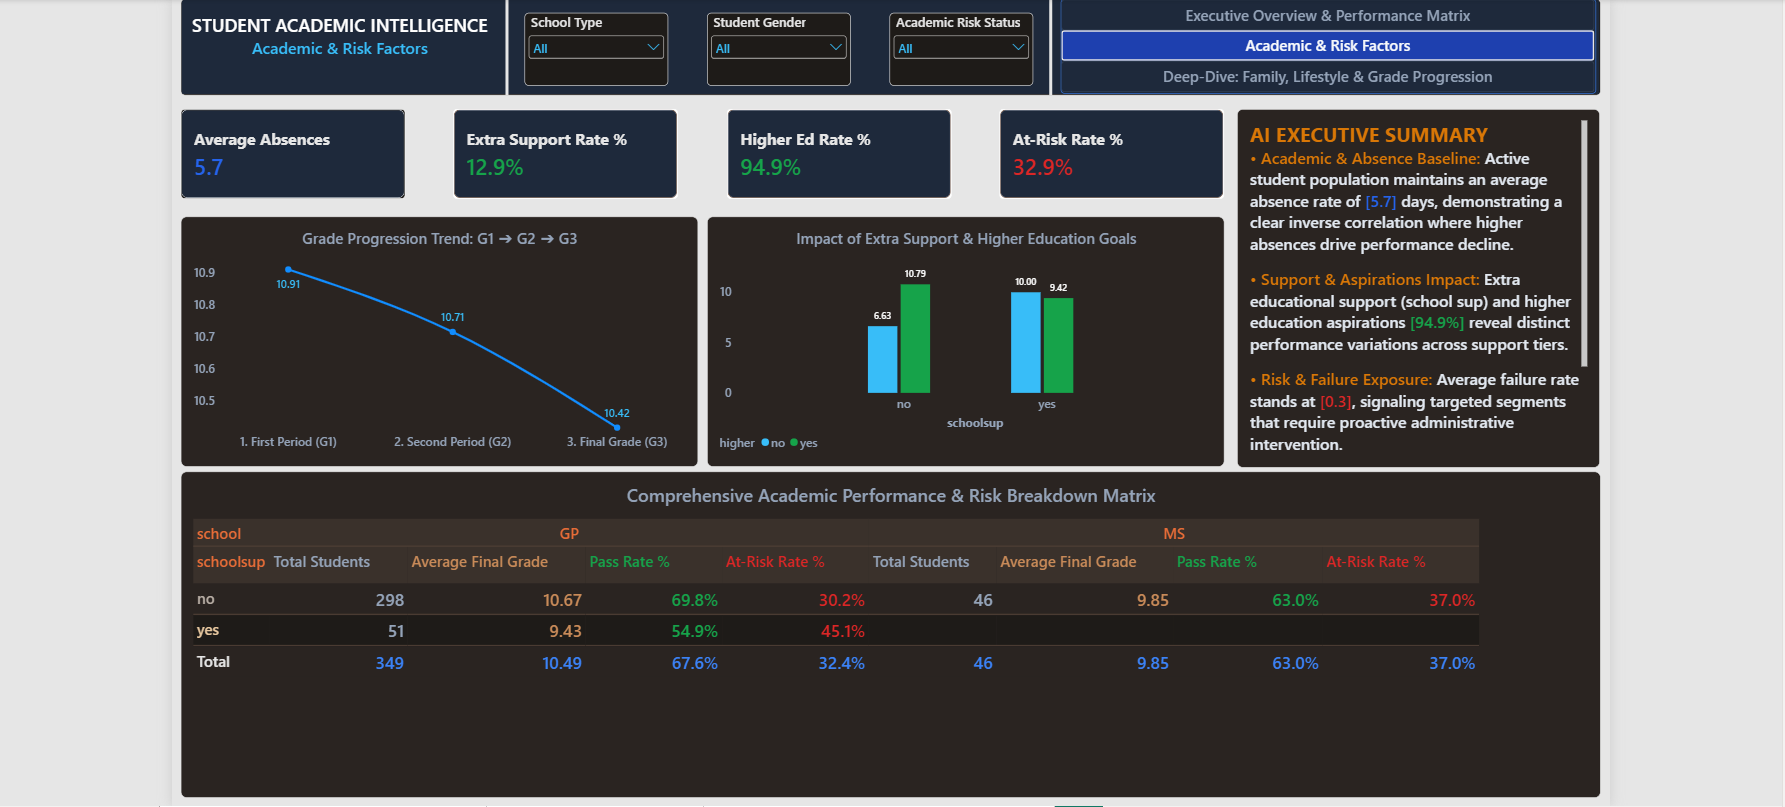

The page's visual inventory and layout, read from the dashboard file:
{"tool":"powerbi","page":{"name":"Academic & Risk Factors","canvas":[1920,1080],"ordinal":1},"visuals":[{"type":"shape","box":[10.9,0,1896.5,128.5],"z":0},{"type":"textbox","box":[12.7,18.1,421.7,97.7],"z":1000},{"type":"shape","box":[329.4,0,237.1,128.5],"z":2000},{"type":"slicer","fields":{"Values":["student.school"]},"box":[470.5,18.1,191.8,97.7],"z":3000},{"type":"slicer","fields":{"Values":["student.sex"]},"box":[714.8,18.1,191.8,97.7],"z":4000},{"type":"slicer","fields":{"Values":["student.Risk Status"]},"box":[959.1,18.1,191.8,97.7],"z":5000},{"type":"shape","box":[1055,0,237.1,128.5],"z":6000},{"type":"pageNavigator","box":[1187.1,0,714.8,126.7],"z":7000},{"type":"cardVisual","fields":{"Data":["Key Measuares.Average Absences"]},"box":[10.9,146.6,300,120],"z":8000},{"type":"cardVisual","fields":{"Data":["Key Measuares.Extra Support Rate %"]},"box":[375.8,146.6,300,120],"z":9000},{"type":"cardVisual","fields":{"Data":["Key Measuares.Higher Ed Rate %"]},"box":[740.8,146.6,300,120],"z":10000},{"type":"cardVisual","fields":{"Data":["Key Measuares.At-Risk Rate %"]},"box":[1105.7,146.6,300,120],"z":11000},{"type":"clusteredColumnChart","title":"Impact of Extra Support & Higher Education Goals","fields":{"Category":["student.schoolsup"],"Series":["student.higher"],"Y":["Key Measuares.Average Final Grade"]},"box":[714.8,291.4,691.3,334],"z":12000},{"type":"textbox","box":[1422.4,146.6,485,479.6],"z":13000},{"type":"pivotTable","title":"Comprehensive Academic Performance & Risk Breakdown Matrix","fields":{"Columns":["student.school"],"Rows":["student.schoolsup"],"Values":["Key Measuares.Total Students","Key Measuares.Average Final Grade","Key Measuares.Pass Rate %","Key Measuares.At-Risk Rate %"]},"box":[10.9,631.6,1896.5,436.1],"z":14000},{"type":"lineChart","title":"Grade Progression Trend: G1 ➔ G2 ➔ G3","fields":{"Category":["Progression_Stages.Stage"],"Y":["Key Measuares.Progression Grade Average"]},"box":[10.9,291.4,691,334],"z":15000}]}

Visuals, with their boxes on the page's 1920x1080 design canvas (x1, y1, x2, y2). These are canvas units, not pixel positions in the 1785x807 screenshot, which may show the page scaled, cropped or inside an application window:
shape: select_region(11, 0, 1907, 128)
textbox: select_region(13, 18, 434, 116)
shape: select_region(329, 0, 566, 128)
slicer - student.school: select_region(470, 18, 662, 116)
slicer - student.sex: select_region(715, 18, 907, 116)
slicer - student.Risk Status: select_region(959, 18, 1151, 116)
shape: select_region(1055, 0, 1292, 128)
pageNavigator: select_region(1187, 0, 1902, 127)
cardVisual - Key Measuares.Average Absences: select_region(11, 147, 311, 267)
cardVisual - Key Measuares.Extra Support Rate %: select_region(376, 147, 676, 267)
cardVisual - Key Measuares.Higher Ed Rate %: select_region(741, 147, 1041, 267)
cardVisual - Key Measuares.At-Risk Rate %: select_region(1106, 147, 1406, 267)
"Impact of Extra Support & Higher Education Goals" clusteredColumnChart: select_region(715, 291, 1406, 625)
textbox: select_region(1422, 147, 1907, 626)
"Comprehensive Academic Performance & Risk Breakdown Matrix" pivotTable: select_region(11, 632, 1907, 1068)
"Grade Progression Trend: G1 ➔ G2 ➔ G3" lineChart: select_region(11, 291, 702, 625)
